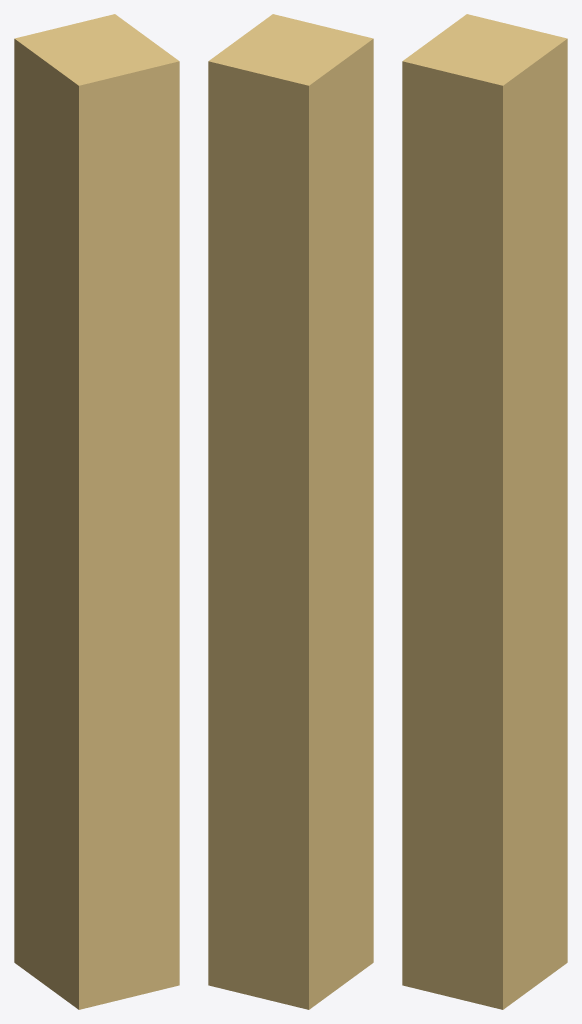
Rendered from SalleRandom_Coin03.fbx.
3 renders of one model, left to right at view 1: azimuth 30°, elevation 25°; view 2: azimuth 150°, elevation 25°; view 3: azimuth 330°, elevation 25°, orthographic.
Parts seen in each view (by area): view 1: Coin03; view 2: Coin03; view 3: Coin03.
Part boxes in pixels (box(x1,y1,x2,y2)): Coin03: box(14, 14, 179, 1009); Coin03: box(208, 14, 373, 1009); Coin03: box(402, 14, 567, 1009).
Size of the model in its own units: 0.7393 by 6.49 by 0.8215.
